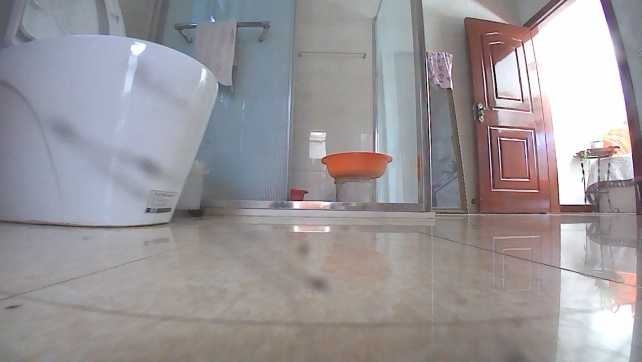door_anno: (463, 14, 562, 213)
door_sill: (288, 197, 433, 218)
toilet: (0, 1, 218, 227)
